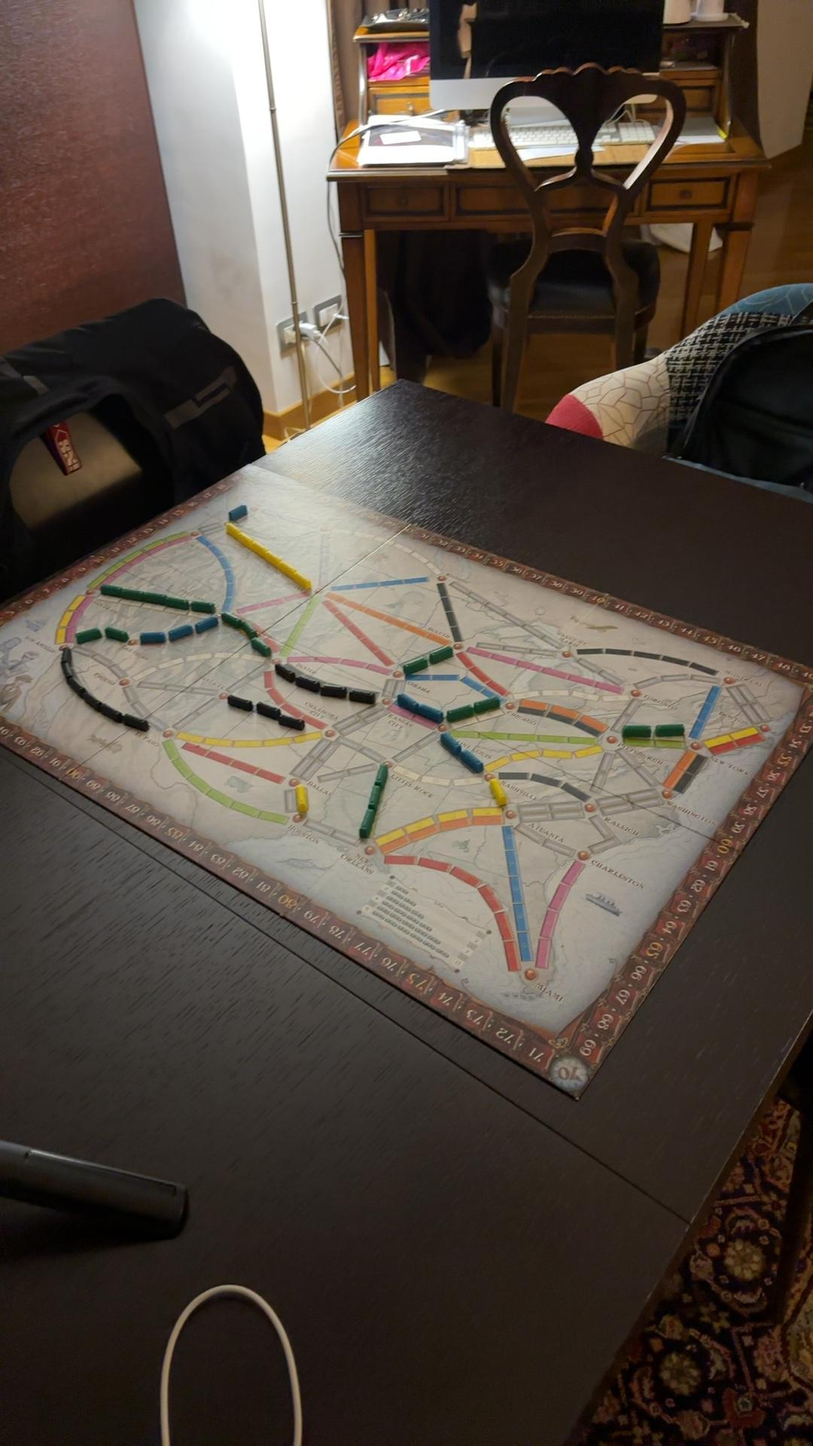black_train: (227, 694, 254, 712), (279, 713, 304, 731), (294, 673, 318, 691), (123, 714, 148, 731), (275, 661, 296, 681), (321, 682, 346, 697), (257, 701, 279, 718), (349, 690, 376, 703)
blue_train: (458, 750, 482, 773), (440, 733, 461, 755), (167, 624, 193, 640), (194, 616, 218, 633), (229, 505, 248, 523), (140, 631, 166, 644)
green_train: (404, 656, 428, 676), (473, 697, 501, 714), (428, 645, 453, 664), (446, 705, 473, 722), (360, 807, 375, 837), (655, 724, 684, 739), (162, 594, 190, 609), (623, 725, 650, 740), (75, 628, 102, 643), (251, 638, 270, 657), (105, 627, 129, 642), (190, 599, 215, 613), (376, 764, 388, 784)
yellow_train: (490, 779, 507, 807), (297, 786, 308, 814)
